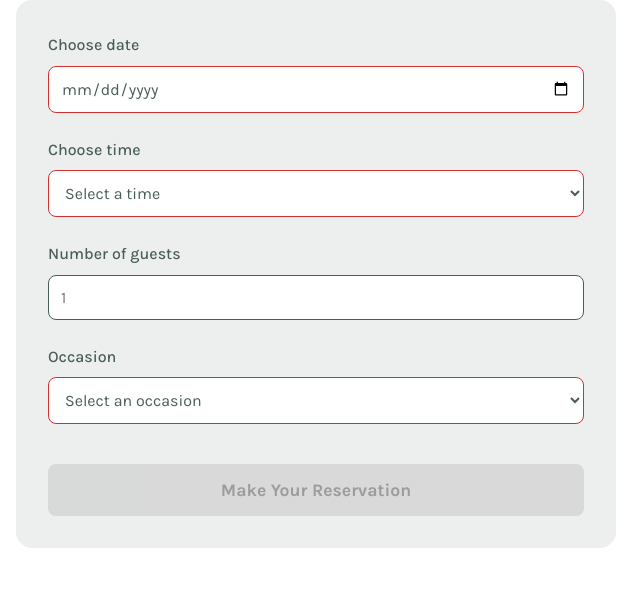
it: BookingForm › JavaScript Validation › Shows error message when guests is less than 1
The image size is (633, 600).
Type "0" into the number field labelled "Number of guests" at (316, 297), box top-left (48, 275), bottom-right (584, 320)
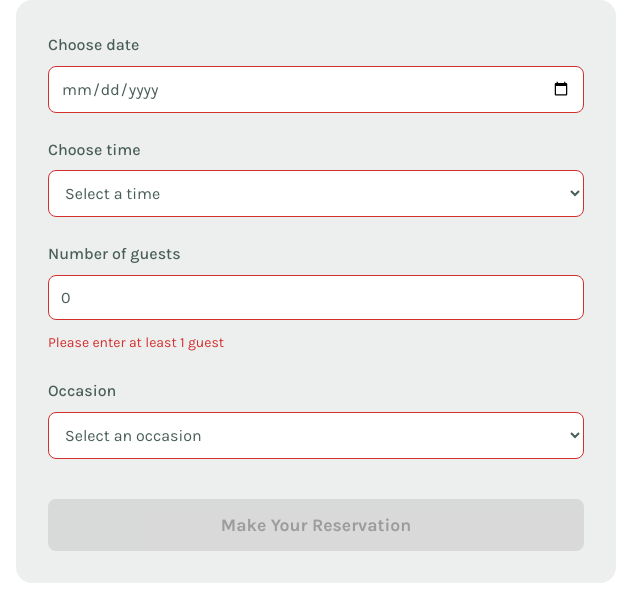
Result: the text "Please enter at least 1 guest" is shown at top-left (48, 334), bottom-right (224, 351)
